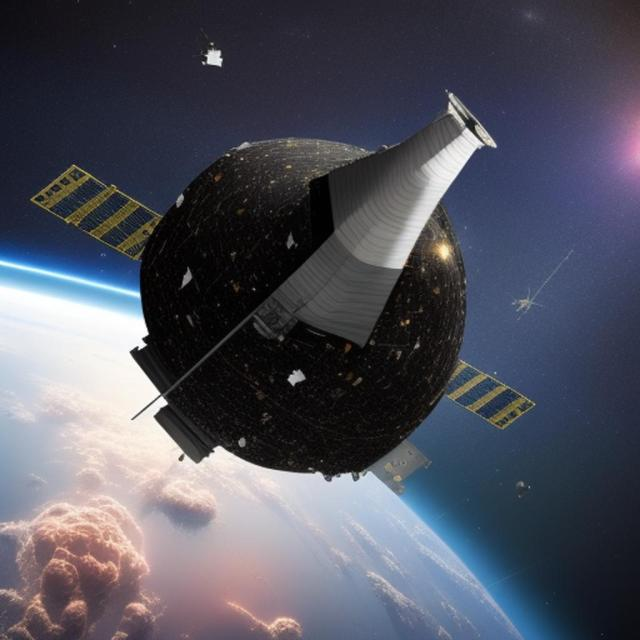large_debris: (201, 42, 228, 72)
satellite: (13, 83, 561, 500)
